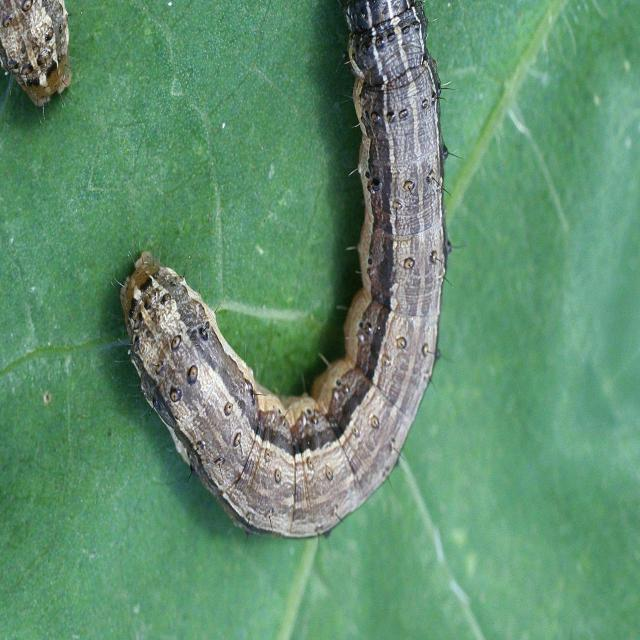Armyworm: (103, 1, 482, 552), (1, 2, 86, 122)
